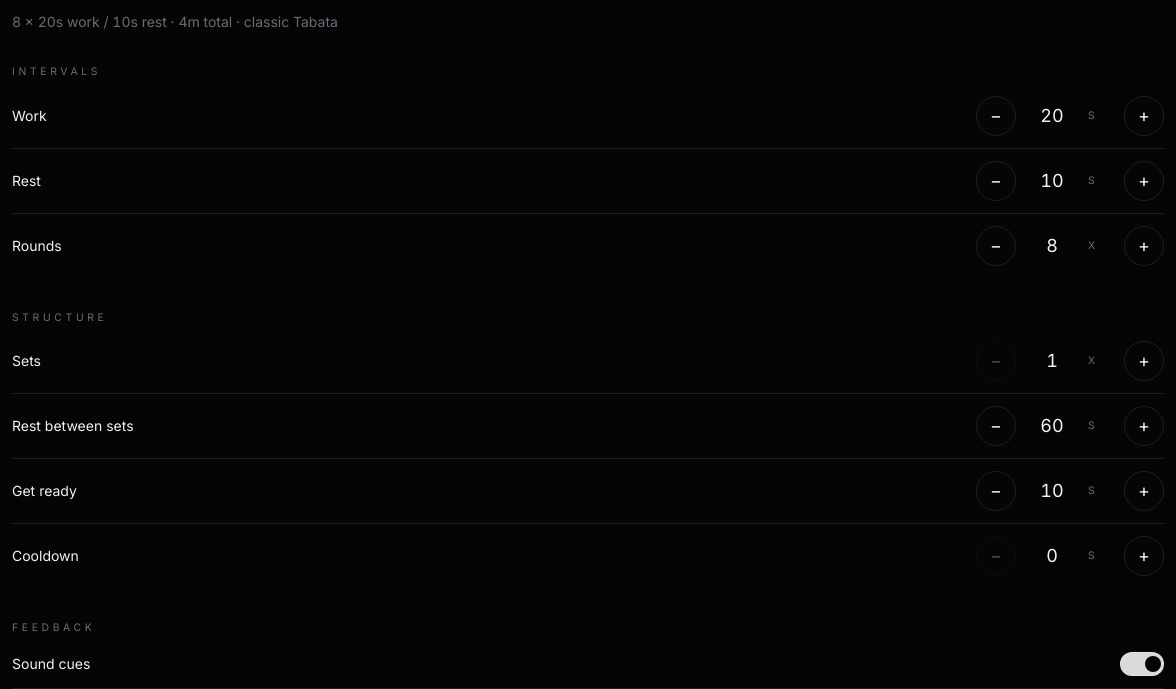
Test: SettingsForm › persists stepper changes and updates the summary
Click the button named "Increase Work" at (1144, 116), box [1124, 96, 1164, 136]
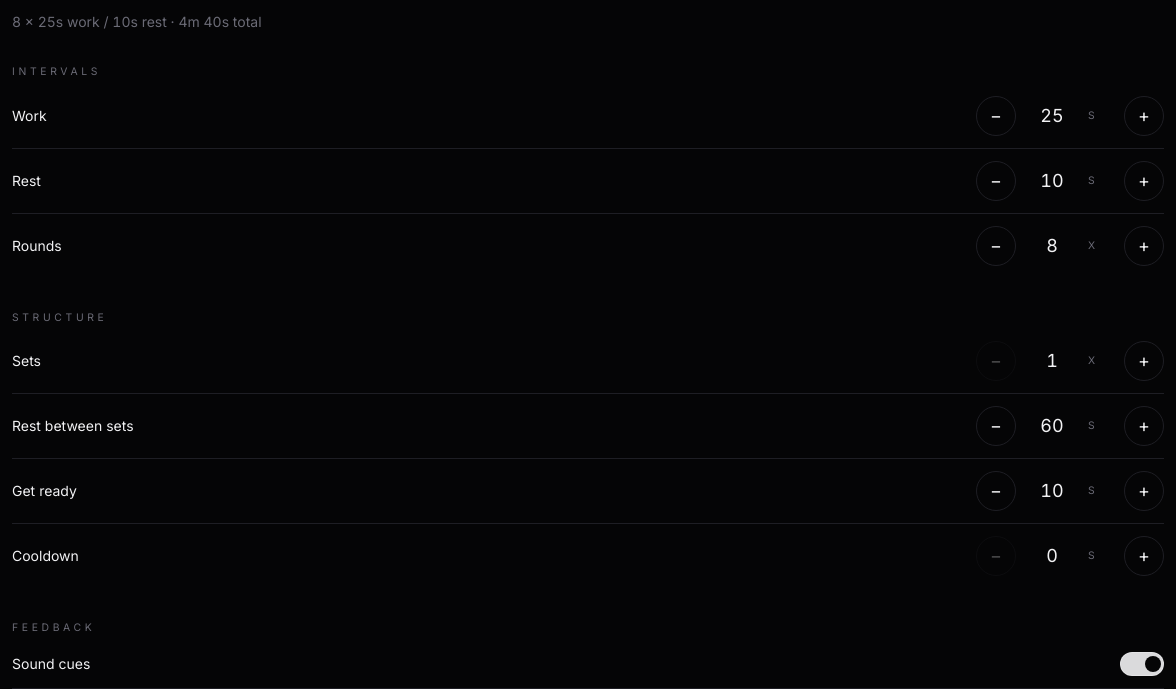
Click the button named "Decrease Rounds" at (996, 246), box [976, 226, 1016, 266]
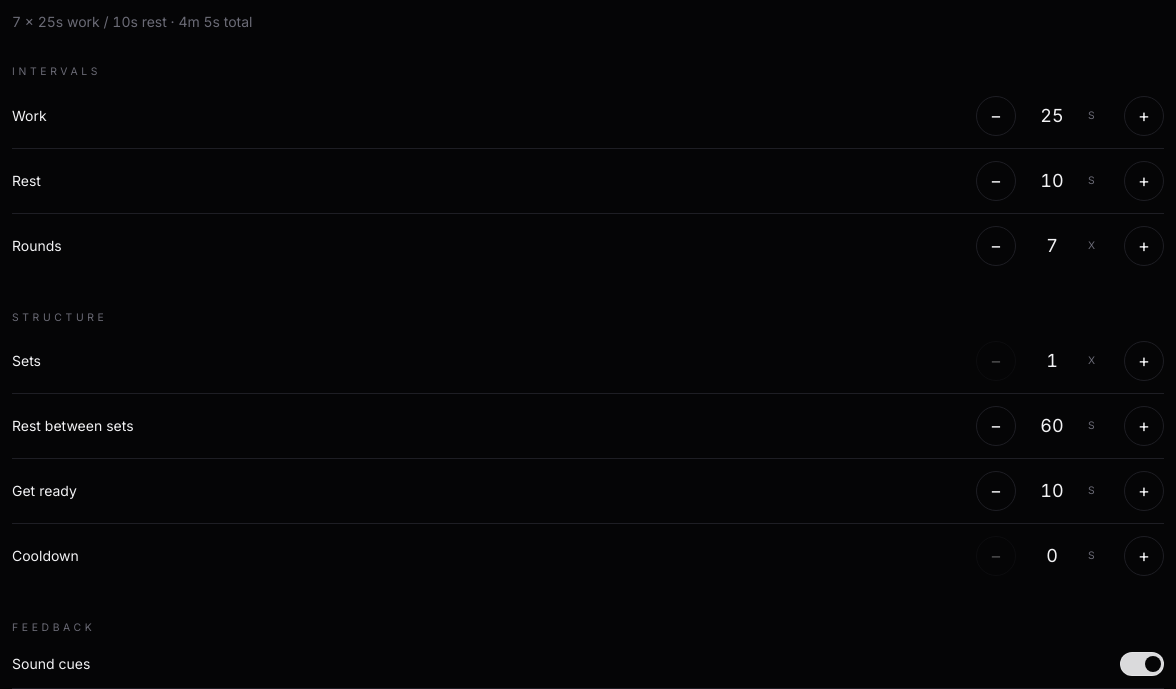
Result: the text with test id "settings-total" shows "7 × 25s work / 10s rest" at [12, 13, 252, 30]
